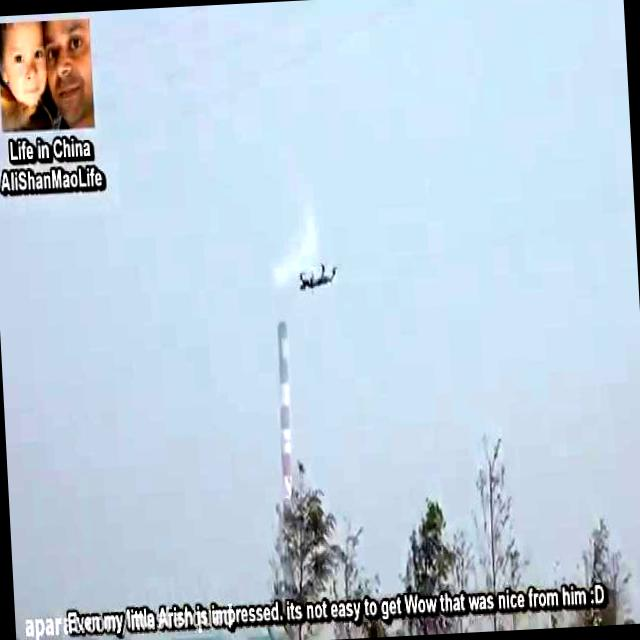drone: (294, 254, 342, 294)
